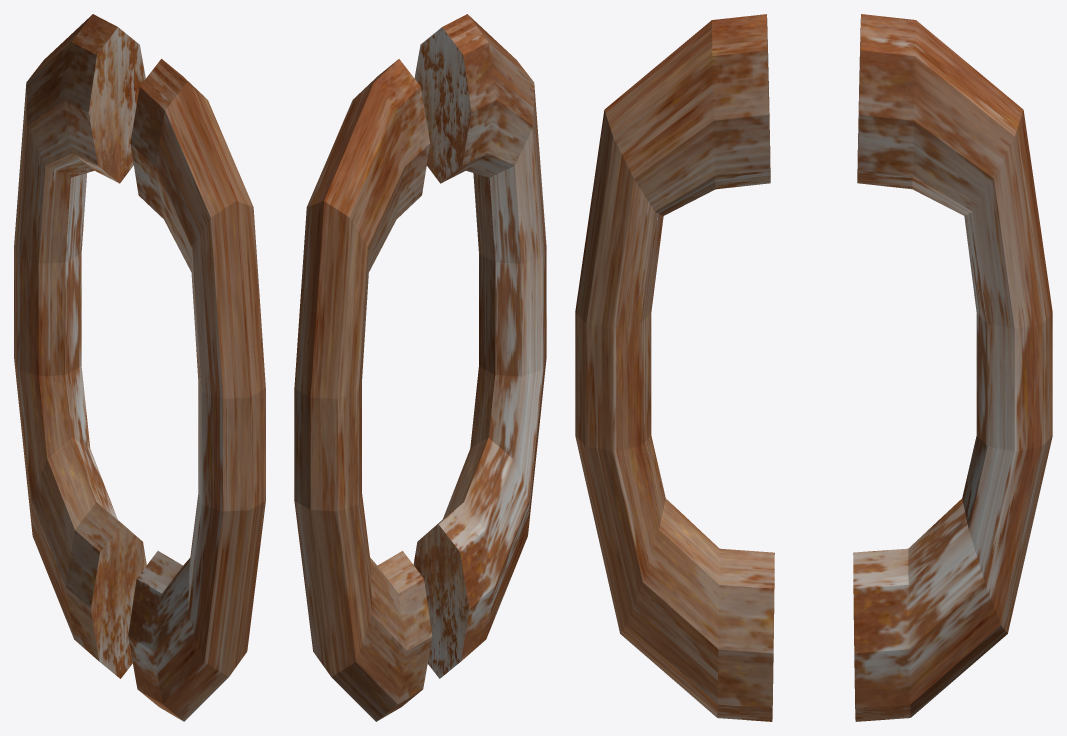
The model's file is Door_reinforced_metal.fbx.
3 renders of one model, left to right at view 1: azimuth 30°, elevation 25°; view 2: azimuth 150°, elevation 25°; view 3: azimuth 270°, elevation 25°, orthographic. The views are drawn at different scales.
Visible parts, largest first — view 1: Cylinder.001; view 2: Cylinder.001; view 3: Cylinder.001.
Boxes of the visible parts, left/top/right/bottom form: Cylinder.001: left=14, top=14, right=265, bottom=721; Cylinder.001: left=294, top=14, right=546, bottom=721; Cylinder.001: left=575, top=14, right=1052, bottom=721.
Size of the model in its own units: 41.49 by 423 by 259.
Materials: 1 (1 with a texture image).
